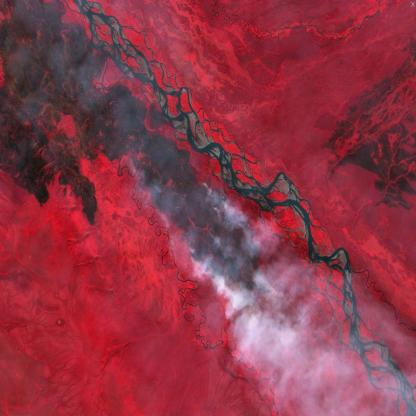fire: (187, 173, 276, 301)
